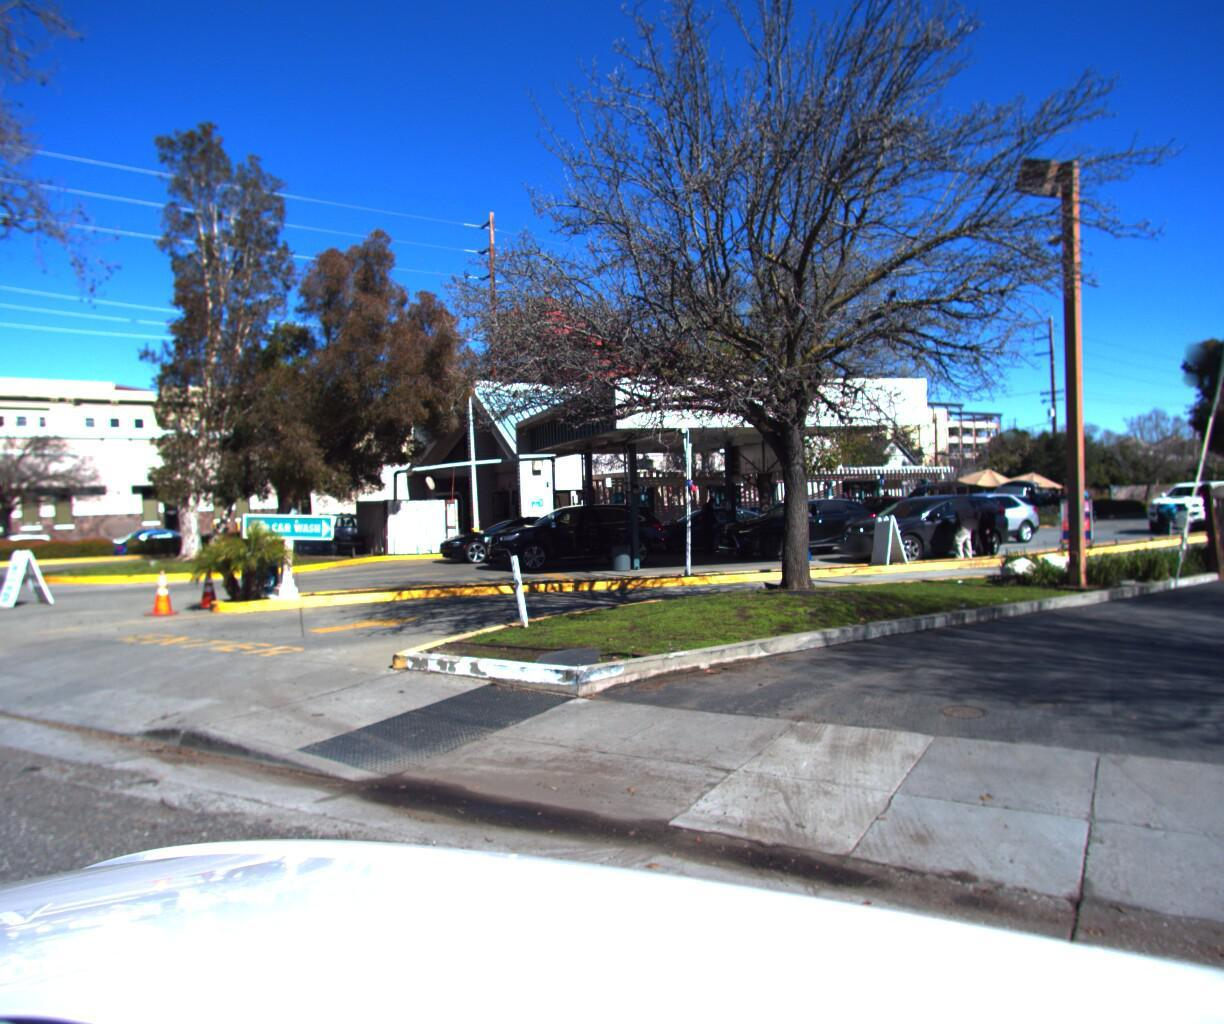car: (479, 492, 673, 566), (830, 483, 1018, 559), (702, 490, 886, 558), (901, 489, 1051, 550), (433, 509, 583, 561), (630, 501, 782, 550), (293, 507, 411, 553), (834, 479, 956, 523), (1135, 475, 1224, 528), (113, 522, 209, 562), (91, 522, 197, 554)
